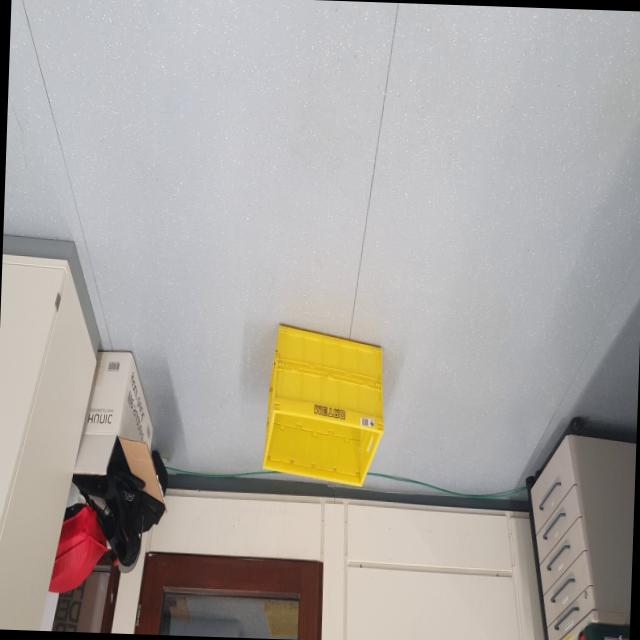box: (255, 317, 390, 497)
